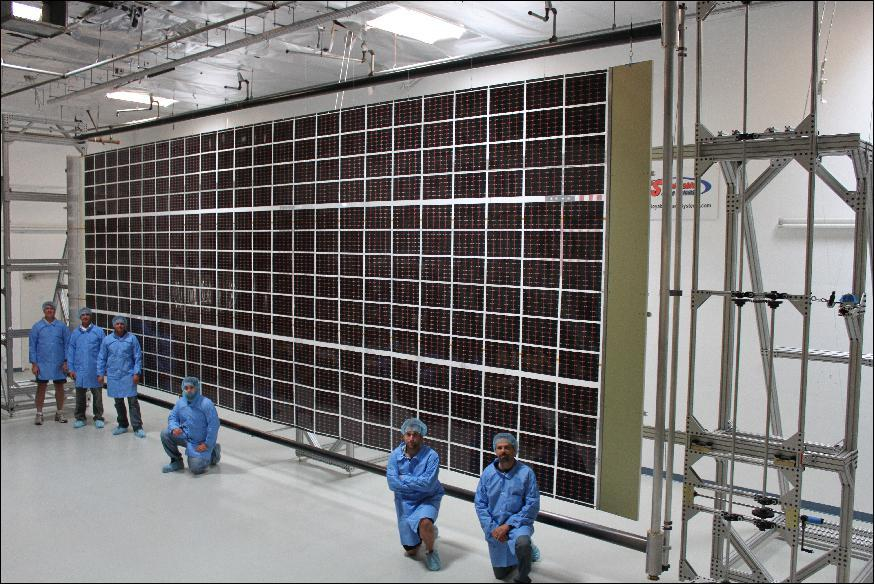solar: (80, 66, 615, 513)
